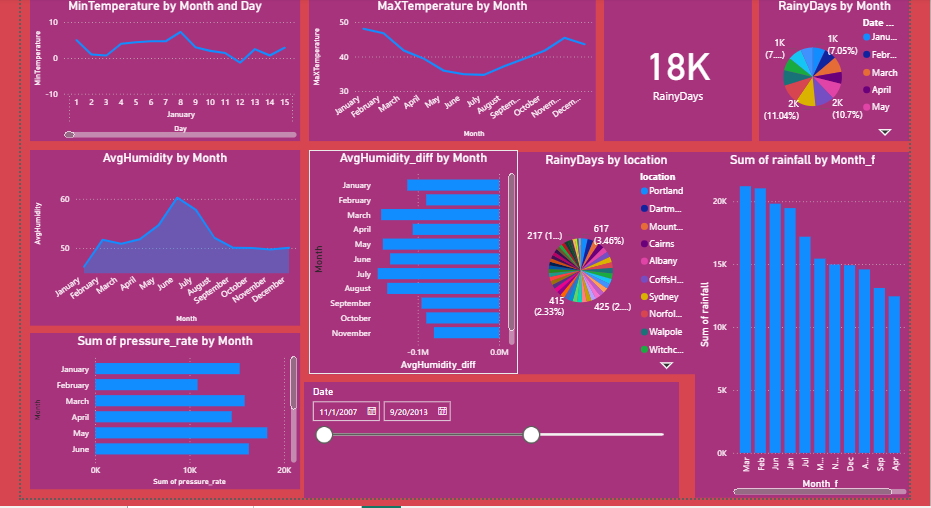

Layout of this report page (visuals, bound fields, positions):
{"tool":"powerbi","page":{"name":"Weather Trends","canvas":[1280,720],"ordinal":0},"visuals":[{"type":"lineChart","fields":{"Y":["weather.MaXTemperature","weather.MinTemperature"],"Category":["weather.temp9am"]},"box":[13,0,388.8,205.9],"z":0},{"type":"lineChart","fields":{"Y":["weather.MinTemperature"],"Category":["weather.temp3pm"]},"box":[414.7,0,413.3,205.9],"z":1000},{"type":"areaChart","fields":{"Y":["weather.AvgHumidity"],"Category":["weather.date.Variation.Date Hierarchy.Month"]},"box":[13,218.9,388.8,252],"z":2000},{"type":"columnChart","fields":{"Y":["Sum(weather.rainfall)"],"Category":["weather.month","weather.Month_f"]},"box":[970.6,218.9,309.6,498.2],"z":3000},{"type":"card","fields":{"Values":["weather.RainyDays"]},"box":[839.5,0,213.1,205.9],"z":4000},{"type":"slicer","fields":{"Values":["weather.date"]},"box":[407.5,553,538.6,167],"z":5000},{"type":"clusteredBarChart","fields":{"Y":["Sum(weather.pressure_rate)"],"Category":["weather.date.Variation.Date Hierarchy.Month"]},"box":[13,482.4,388.8,224.6],"z":6000},{"type":"pieChart","fields":{"Y":["weather.RainyDays"],"Category":["weather.date.Variation.Date Hierarchy.Month","weather.date.Variation.Date Hierarchy.Day"]},"box":[1052.6,0,227.5,205.9],"z":7000},{"type":"barChart","fields":{"Y":["weather.AvgHumidity_diff"],"Category":["weather.date.Variation.Date Hierarchy.Month","weather.date.Variation.Date Hierarchy.Day"]},"box":[414.7,218.9,301,322.6],"z":8000},{"type":"pieChart","fields":{"Y":["weather.RainyDays"],"Category":["weather.location"]},"box":[715.7,221.8,244.8,319.7],"z":9000}]}

Visuals, with their boxes on the page's 1280x720 design canvas (x1, y1, x2, y2). These are canvas units, not pixel positions in the 931x508 screenshot, which may show the page scaled, cropped or inside an application window:
lineChart - weather.MaXTemperature x weather.MinTemperature: x1=13, y1=0, x2=402, y2=206
lineChart - weather.MinTemperature x weather.temp3pm: x1=415, y1=0, x2=828, y2=206
areaChart - weather.AvgHumidity x weather.date.Variation.Date Hierarchy.Month: x1=13, y1=219, x2=402, y2=471
columnChart - Sum(weather.rainfall) x weather.month: x1=971, y1=219, x2=1280, y2=717
card - weather.RainyDays: x1=840, y1=0, x2=1053, y2=206
slicer - weather.date: x1=408, y1=553, x2=946, y2=720
clusteredBarChart - Sum(weather.pressure_rate) x weather.date.Variation.Date Hierarchy.Month: x1=13, y1=482, x2=402, y2=707
pieChart - weather.RainyDays x weather.date.Variation.Date Hierarchy.Month: x1=1053, y1=0, x2=1280, y2=206
barChart - weather.AvgHumidity_diff x weather.date.Variation.Date Hierarchy.Month: x1=415, y1=219, x2=716, y2=542
pieChart - weather.RainyDays x weather.location: x1=716, y1=222, x2=960, y2=542
